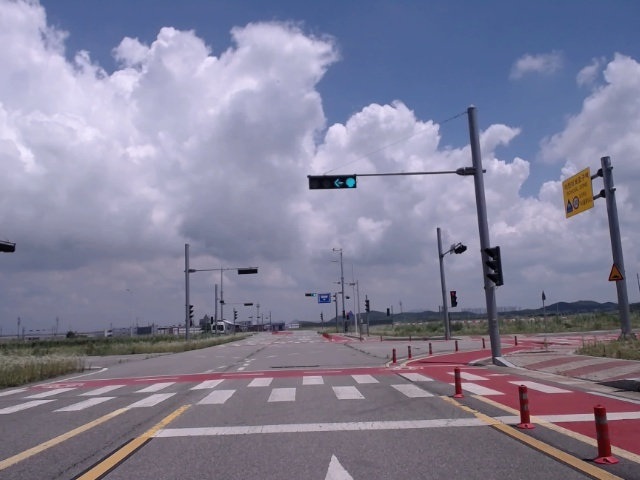all_green_4: (307, 177, 357, 187)
